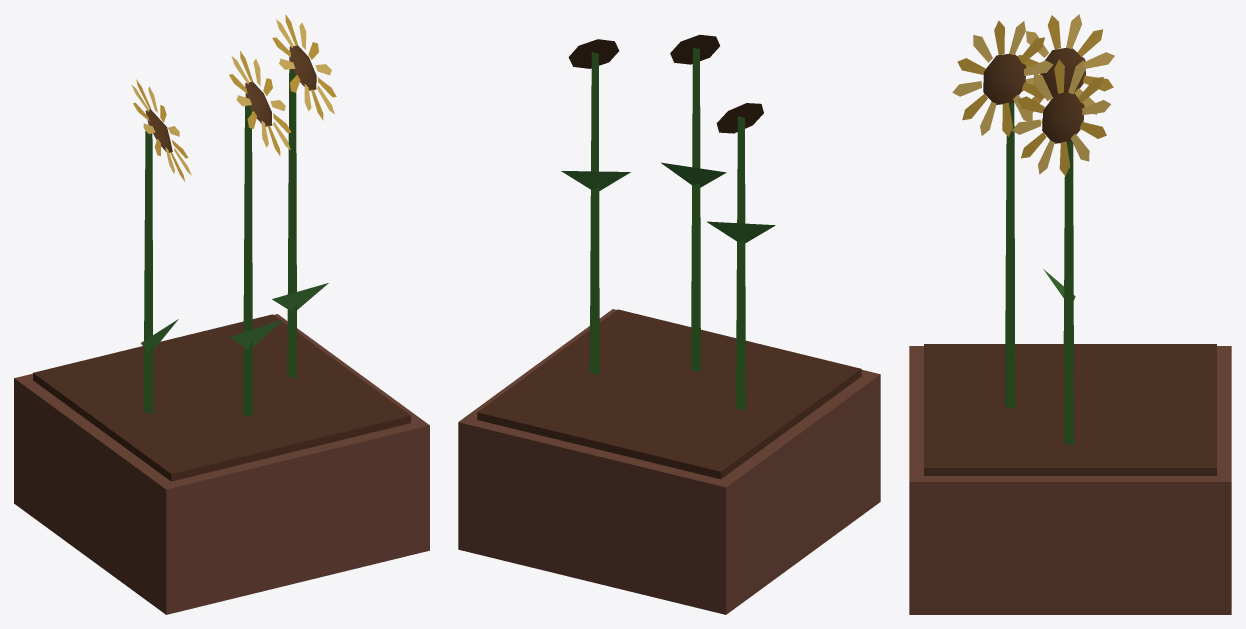
Rendered from sunflower_planter.glb.
3 renders of one model, left to right at view 1: azimuth 30°, elevation 25°; view 2: azimuth 150°, elevation 25°; view 3: azimuth 270°, elevation 25°, orthographic. The views are drawn at different scales.
Parts seen in each view (by area): view 1: decor-sunflower_planter; view 2: decor-sunflower_planter; view 3: decor-sunflower_planter.
Boxes of the visible parts, x1=… form: decor-sunflower_planter: x1=14, y1=14, x2=429, y2=614; decor-sunflower_planter: x1=458, y1=34, x2=880, y2=614; decor-sunflower_planter: x1=909, y1=14, x2=1231, y2=614.
Bounding box in the file's own units: 1.1 × 1.96 × 1.1.
